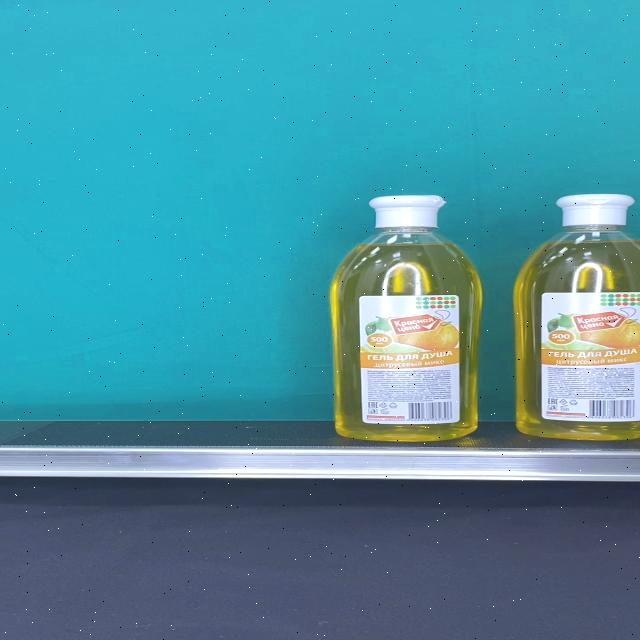Bottle: (332, 194, 482, 442), (512, 193, 640, 441)
Cap: (369, 195, 447, 229), (554, 194, 636, 226)
